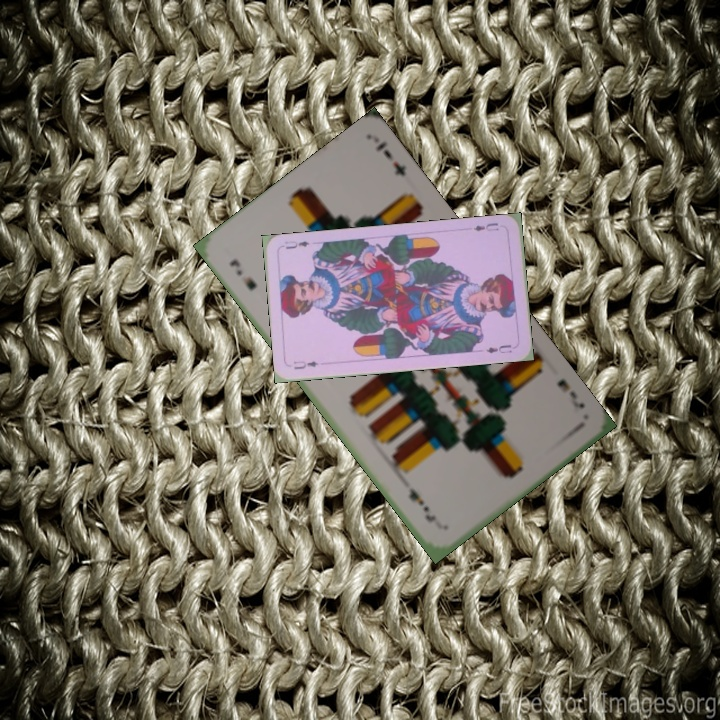E7: (225, 255, 260, 293), (553, 375, 587, 412)
EU: (470, 219, 501, 234), (290, 357, 321, 372)
